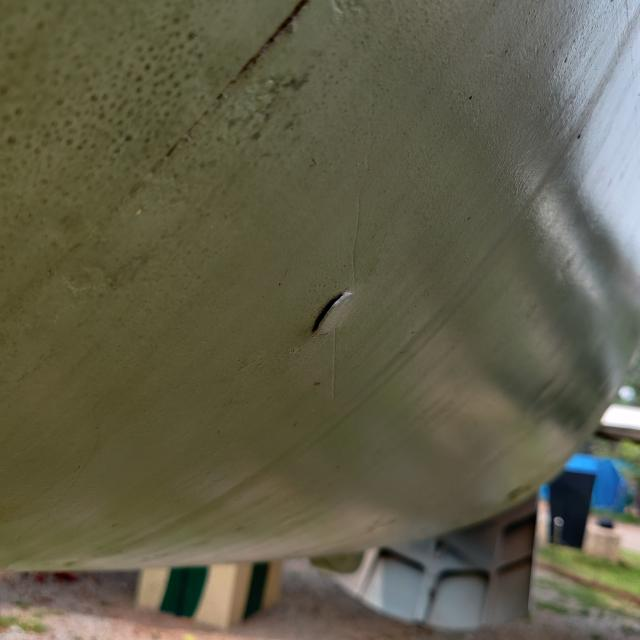crack: (301, 277, 367, 348)
